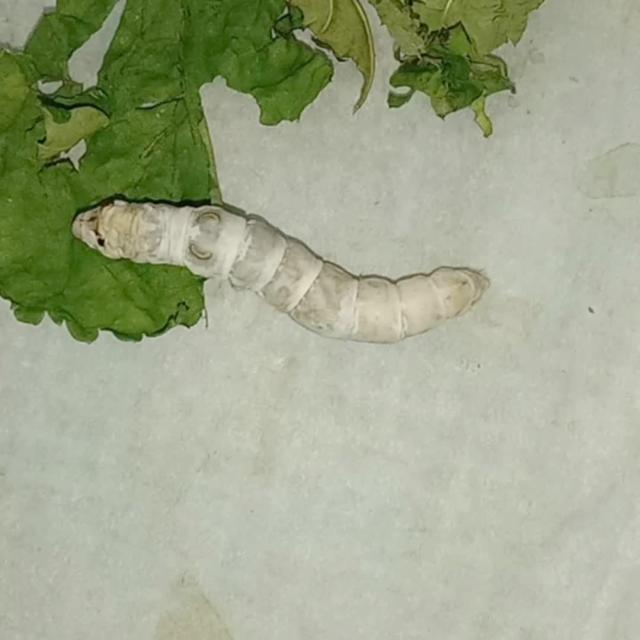Grasserie: (62, 152, 512, 370)
